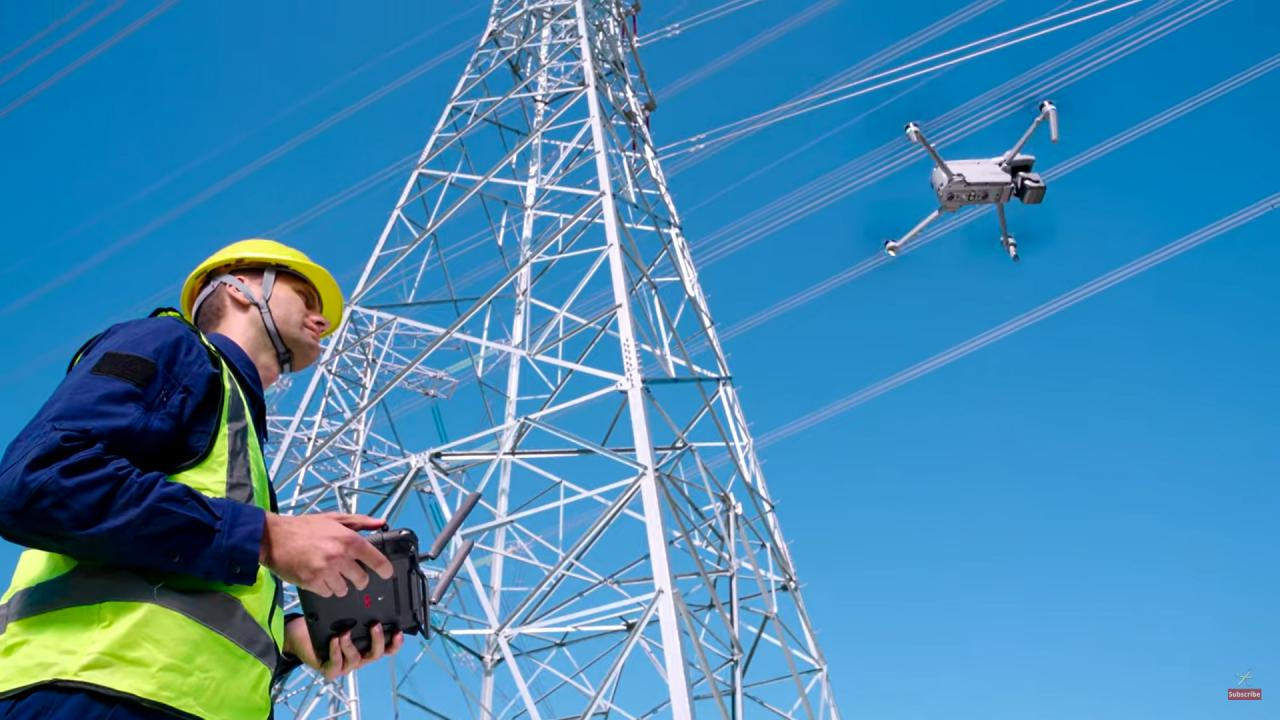Drone: (858, 80, 1076, 281)
